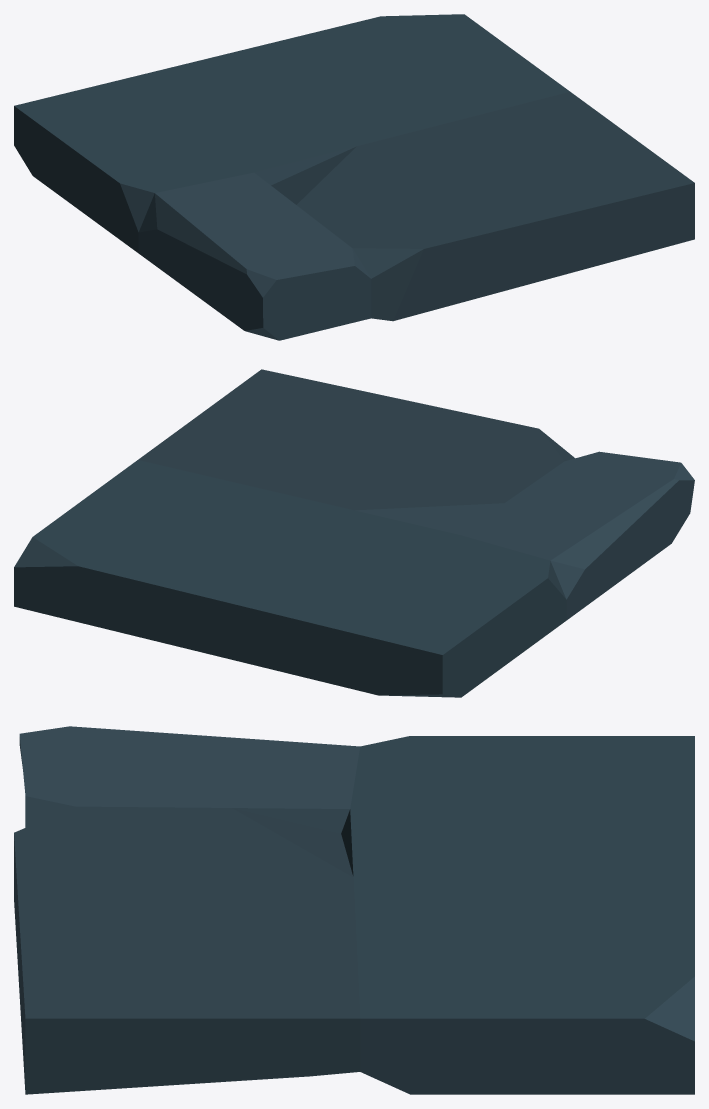
Rendered from floor_element_2x2_one_step_high.fbx.
3 renders of one model, top to bottom at view 1: azimuth 30°, elevation 25°; view 2: azimuth 150°, elevation 25°; view 3: azimuth 270°, elevation 25°, orthographic. The views are drawn at different scales.
Parts seen in each view (by area): view 1: floor_element_2x2_one_step_high; view 2: floor_element_2x2_one_step_high; view 3: floor_element_2x2_one_step_high.
Boxes of the visible parts, <box> form: floor_element_2x2_one_step_high: <box>14,14,694,340</box>; floor_element_2x2_one_step_high: <box>14,369,694,697</box>; floor_element_2x2_one_step_high: <box>14,726,694,1094</box>.
Bounding box in the file's own units: 201 × 32.53 × 203.
